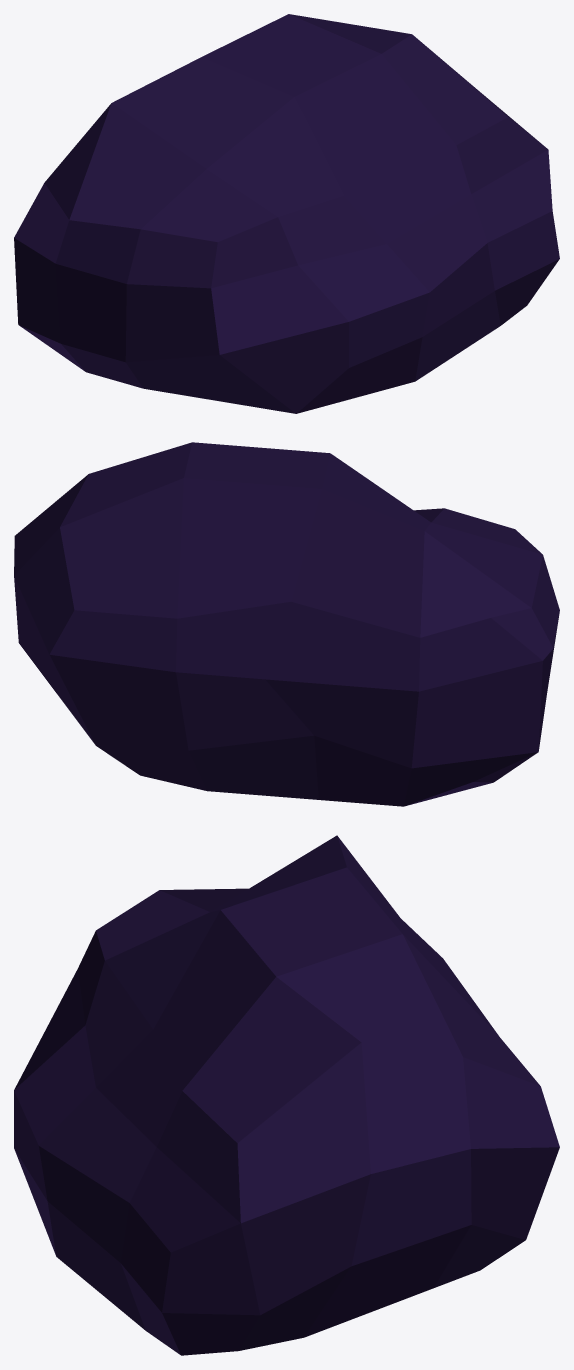
The model's file is stone_001_grp.fbx.
3 renders of one model, top to bottom at view 1: azimuth 30°, elevation 25°; view 2: azimuth 150°, elevation 25°; view 3: azimuth 270°, elevation 25°, orthographic. The views are drawn at different scales.
Parts seen in each view (by area): view 1: stone_001_grp; view 2: stone_001_grp; view 3: stone_001_grp.
Part boxes in pixels (x1=…): stone_001_grp: x1=14, y1=14, x2=559, y2=413; stone_001_grp: x1=14, y1=442, x2=559, y2=806; stone_001_grp: x1=14, y1=835, x2=559, y2=1355.
Size of the model in its own units: 200 by 100 by 150.
